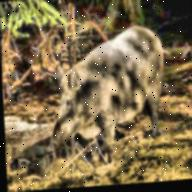boar: (46, 18, 172, 162)
